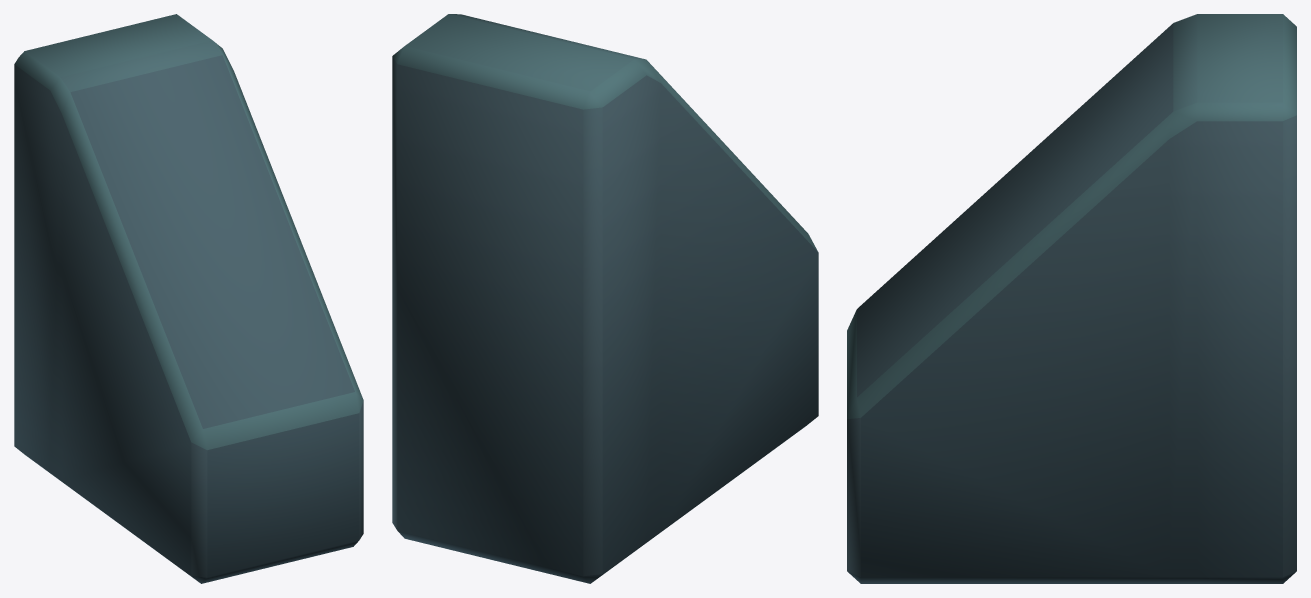
The model's file is stair_sidewall2.fbx.
The picture shows the model from 3 angles, left to right: view 1: azimuth 30°, elevation 25°; view 2: azimuth 150°, elevation 25°; view 3: azimuth 270°, elevation 25°; orthographic projection. The views are drawn at different scales.
Parts seen in each view (by area): view 1: stair_sidewall2; view 2: stair_sidewall2; view 3: stair_sidewall2.
Boxes of the visible parts, box(x1,y1,x2,y2) form: stair_sidewall2: box(14, 14, 363, 583); stair_sidewall2: box(392, 14, 818, 583); stair_sidewall2: box(847, 14, 1296, 583).
Bounding box in the file's own units: 53.12 × 119 × 101.
